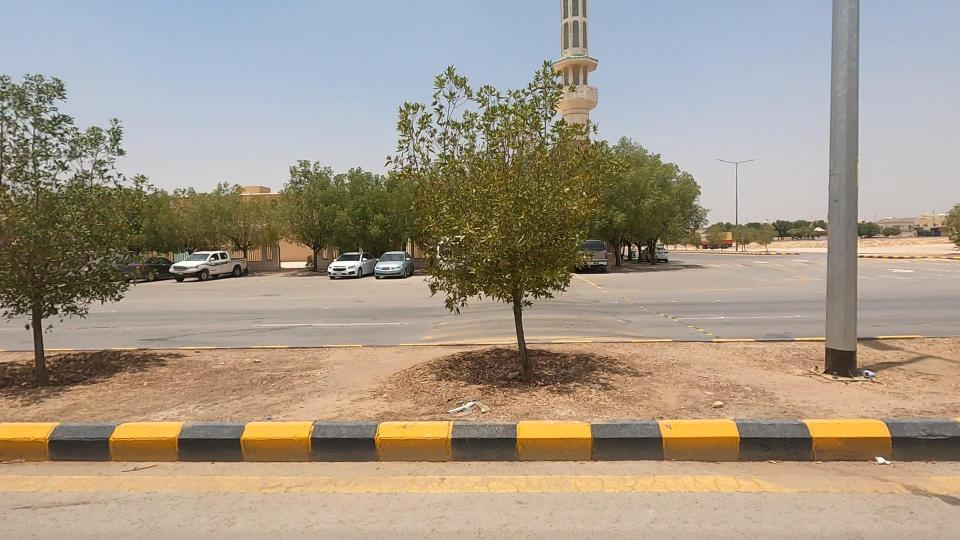GARBAGE: (403, 370, 535, 441), (836, 414, 922, 500), (828, 344, 902, 403)
